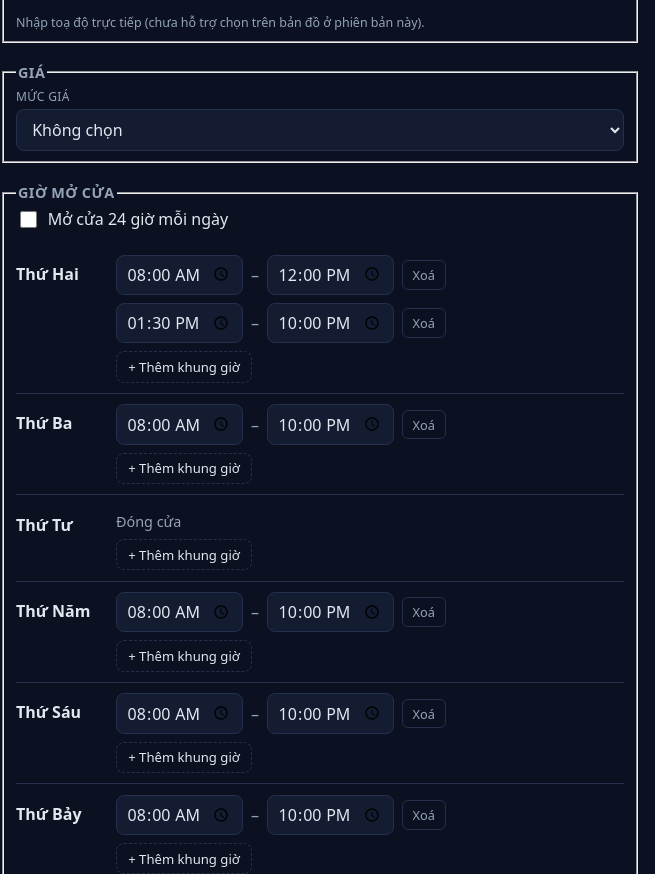
Test: PlaceForm — giờ mở cửa › xoá khung giờ duy nhất của một ngày -> quay lại "Đóng cửa"
(page scrolled)
Click the button with aria-label "Xoá khung giờ 1 của Thứ Ba" at {"x": 424, "y": 425}, box [402,410,446,439]
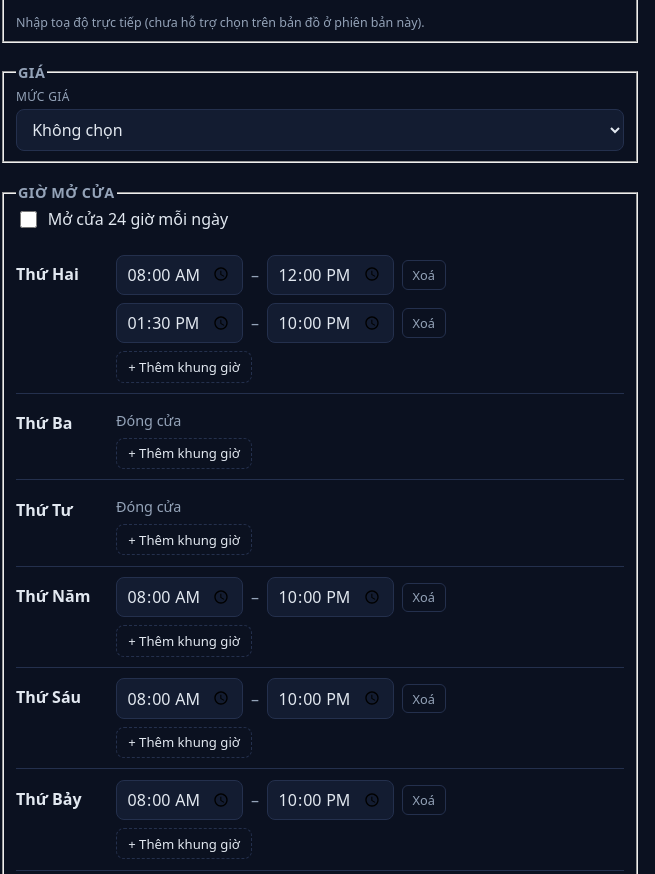
Expected: the text "Đóng cửa" is shown 2 times, [116,411,181,430]; [116,497,181,516]
